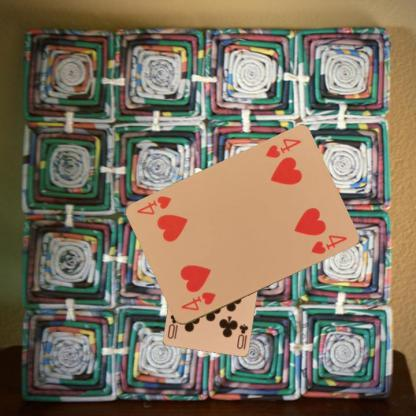10c: (234, 321, 249, 350)
4h: (263, 136, 302, 160), (178, 290, 217, 312)
